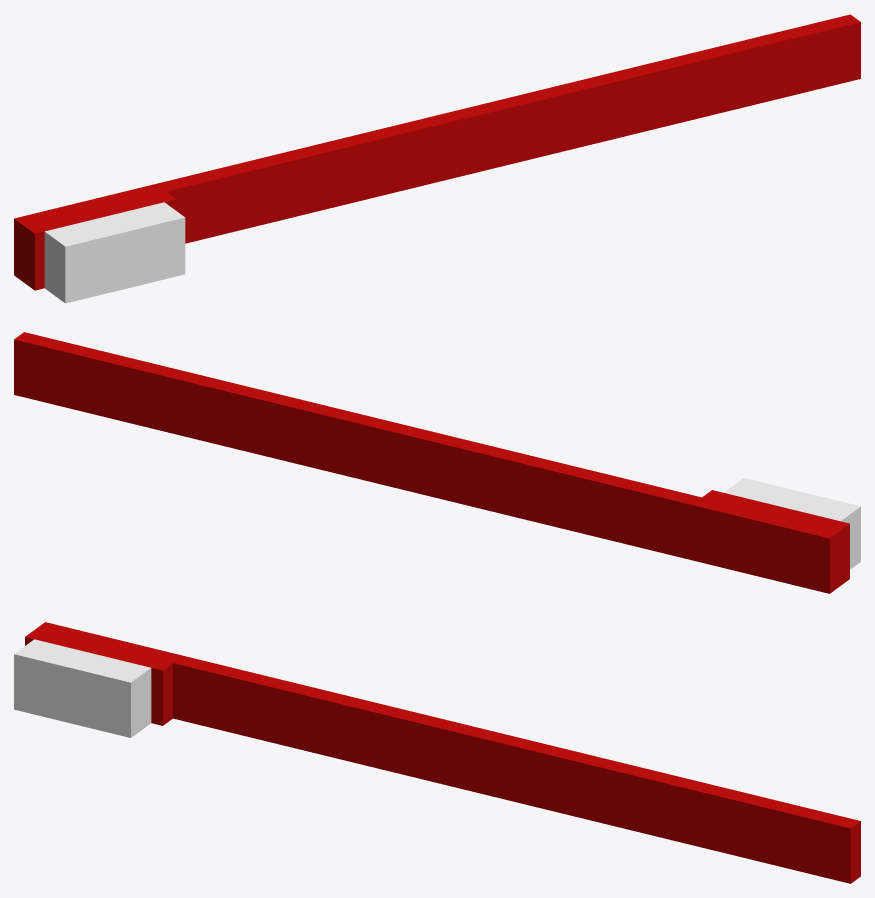
The picture shows the model from 3 angles, top to bottom: view 1: azimuth 30°, elevation 25°; view 2: azimuth 150°, elevation 25°; view 3: azimuth 330°, elevation 25°; orthographic projection. The views are drawn at different scales.
Parts seen in each view (by area): view 1: toothbrush; view 2: toothbrush; view 3: toothbrush.
Part boxes in pixels (x1=…): toothbrush: x1=14, y1=14, x2=860, y2=303; toothbrush: x1=14, y1=332, x2=860, y2=593; toothbrush: x1=14, y1=622, x2=860, y2=883.
Bounding box in the file's own units: 11.56 × 0.75 × 1.
